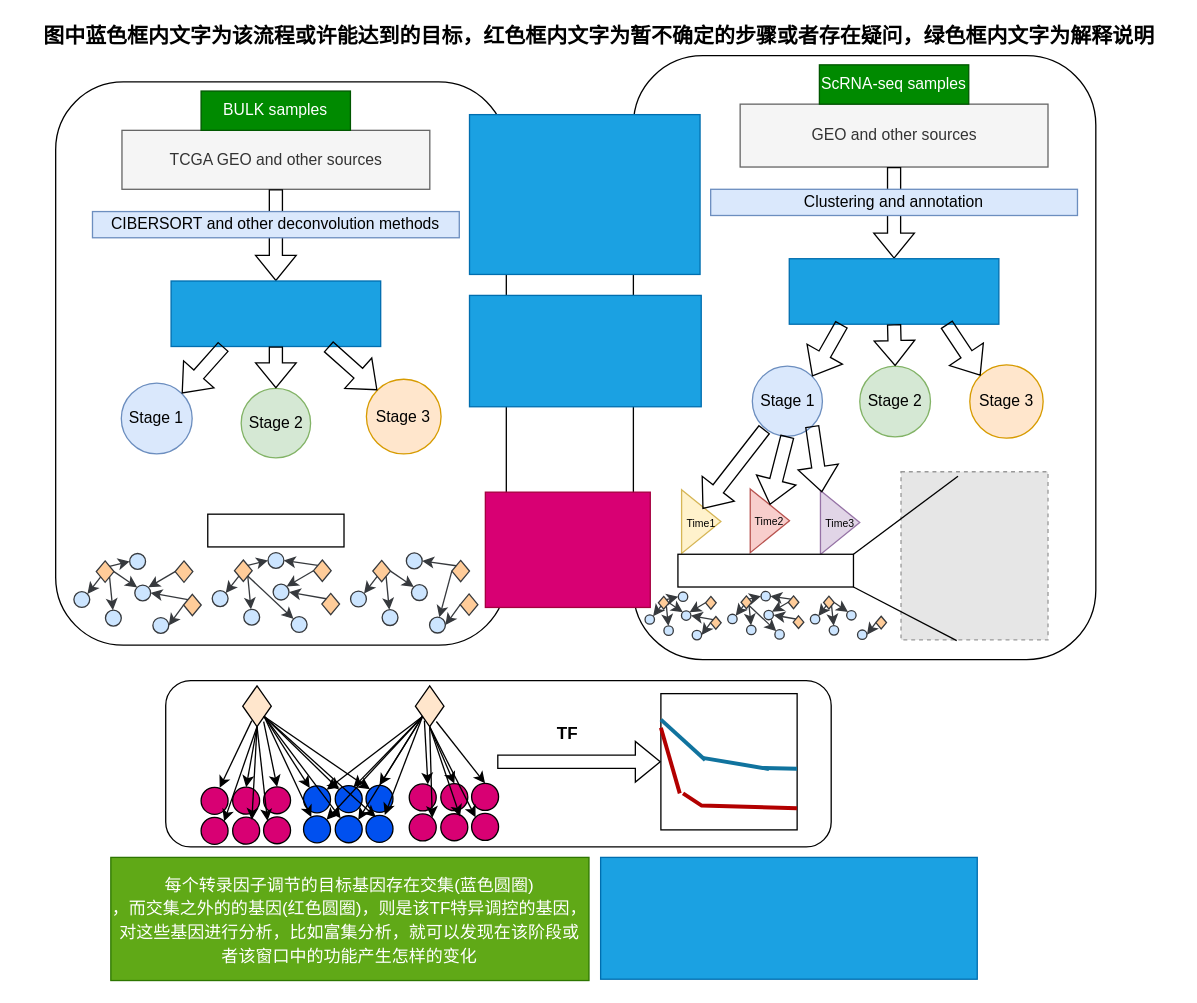
Image size: 1197x1003. Some labels were removed from this diagram. Grey dashed boxes stand in for pictures. The shapes that lost their labels are listed below. From the top down, each one's centre as x and y in pixels, then its label:
At (x=584, y=193): "目标1：探究BULK样本与单细胞数据的表达模式(比如标记基因的表达水平是否一致？)以及同一阶段中，TF-gene调控是否一致".
At (x=893, y=290): "All plasma cells incloud other subtypes".
At (x=275, y=313): "All samples that with high proportion plasma".
At (x=584, y=350): "目标2：如果不同阶段中浆细胞含量有显著差异，这种差异是因为细胞数量的分布不均匀还是某些调控机制的作用？".
At (x=275, y=530): "L0 Reg framework".
At (x=567, y=549): "问题2：加入BULK数据，用来验证单细胞GRN或者通过加入BULK数据提高单细胞GRN准确度？".
At (x=765, y=570): "L0-Dynamic".
At (x=788, y=917): "目标3： 通过统计方法或者其他的网络对比方法发现各个网络之间存在的显著差异(或者共同)因素，并通过生存分析检验".
